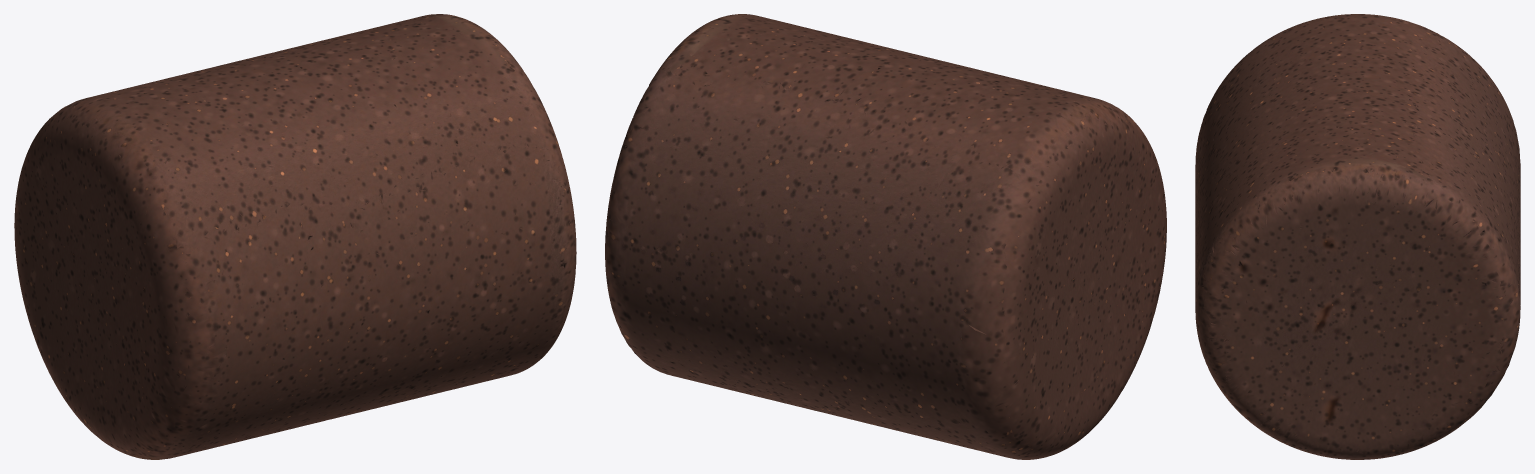
File: pellet_F_poroso_alto_2K_corregido.glb
The picture shows the model from 3 angles, left to right: view 1: azimuth 30°, elevation 25°; view 2: azimuth 150°, elevation 25°; view 3: azimuth 270°, elevation 25°; orthographic projection. The views are drawn at different scales.
Bounding box in the file's own units: 1.89 × 1.5 × 1.5.
Materials: 1 (1 with a texture image).
